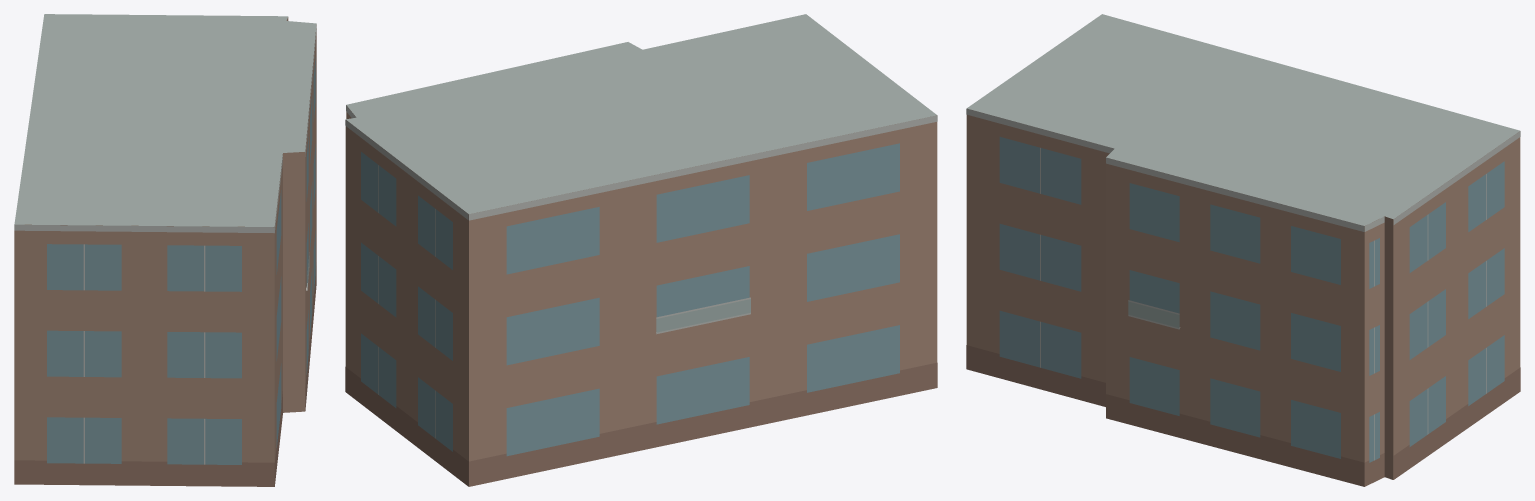
Rendered from survey-upis-32707441.glb.
The picture shows the model from 3 angles, left to right: view 1: azimuth 30°, elevation 25°; view 2: azimuth 150°, elevation 25°; view 3: azimuth 270°, elevation 25°; orthographic projection. The views are drawn at different scales.
Parts seen in each view (by area): view 1: survey-upis-32707441.tmp; view 2: survey-upis-32707441.tmp; view 3: survey-upis-32707441.tmp.
Boxes of the visible parts, x1=… form: survey-upis-32707441.tmp: x1=14, y1=14, x2=316, y2=486; survey-upis-32707441.tmp: x1=345, y1=14, x2=937, y2=486; survey-upis-32707441.tmp: x1=966, y1=14, x2=1520, y2=486.
Bounding box in the file's own units: 18.14 × 10.4 × 20.03.
